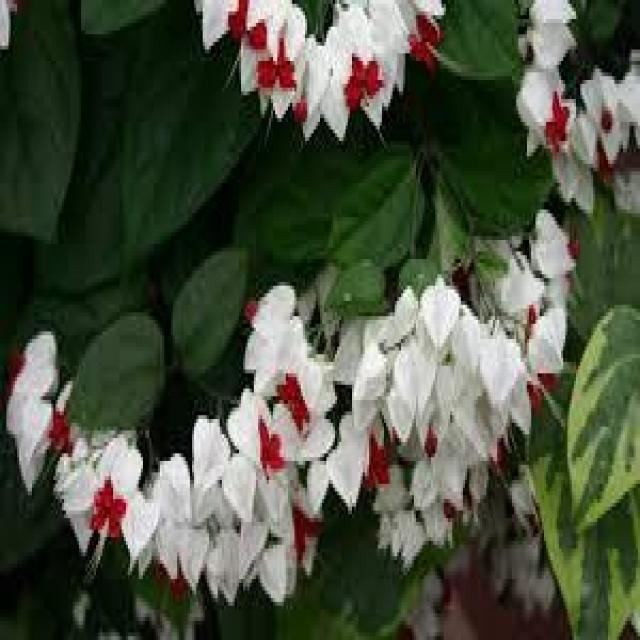organic waste: (339, 278, 544, 480), (230, 5, 410, 150), (233, 297, 329, 514), (47, 419, 166, 552), (503, 49, 589, 164)
